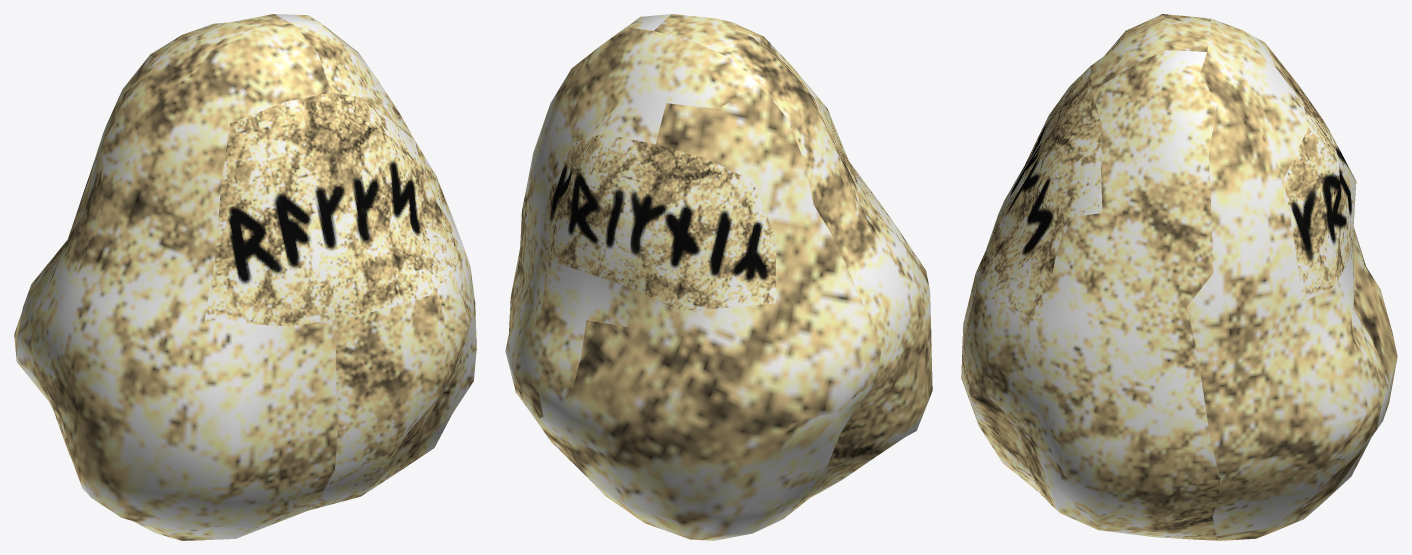
Rendered from grimnerrocks.glb.
The picture shows the model from 3 angles, left to right: view 1: azimuth 30°, elevation 25°; view 2: azimuth 150°, elevation 25°; view 3: azimuth 270°, elevation 25°; orthographic projection. The views are drawn at different scales.
Parts seen in each view (by area): view 1: Sphere; view 2: Sphere; view 3: Sphere.
Boxes of the visible parts, x1,y1,x2,y2 form: Sphere: [14, 14, 476, 540]; Sphere: [505, 14, 932, 540]; Sphere: [961, 14, 1397, 540].
Bounding box in the file's own units: 2.43 × 2.92 × 2.27.
1 material, 1 textured.
